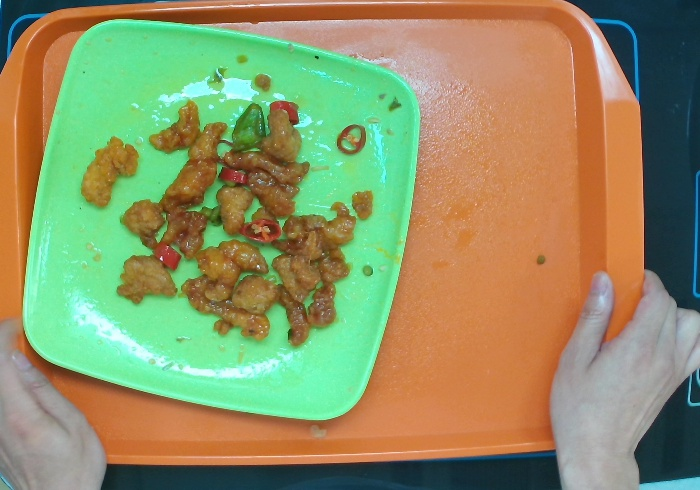ZNLD-Lv_Fang_Pan: (21, 16, 422, 422)
